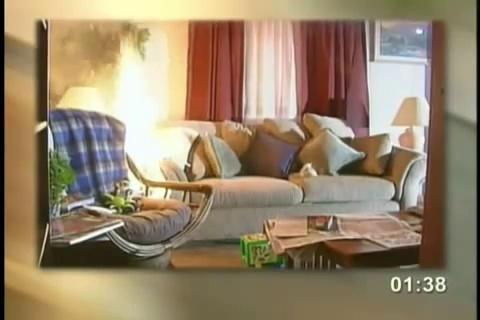fire: (96, 35, 172, 166)
